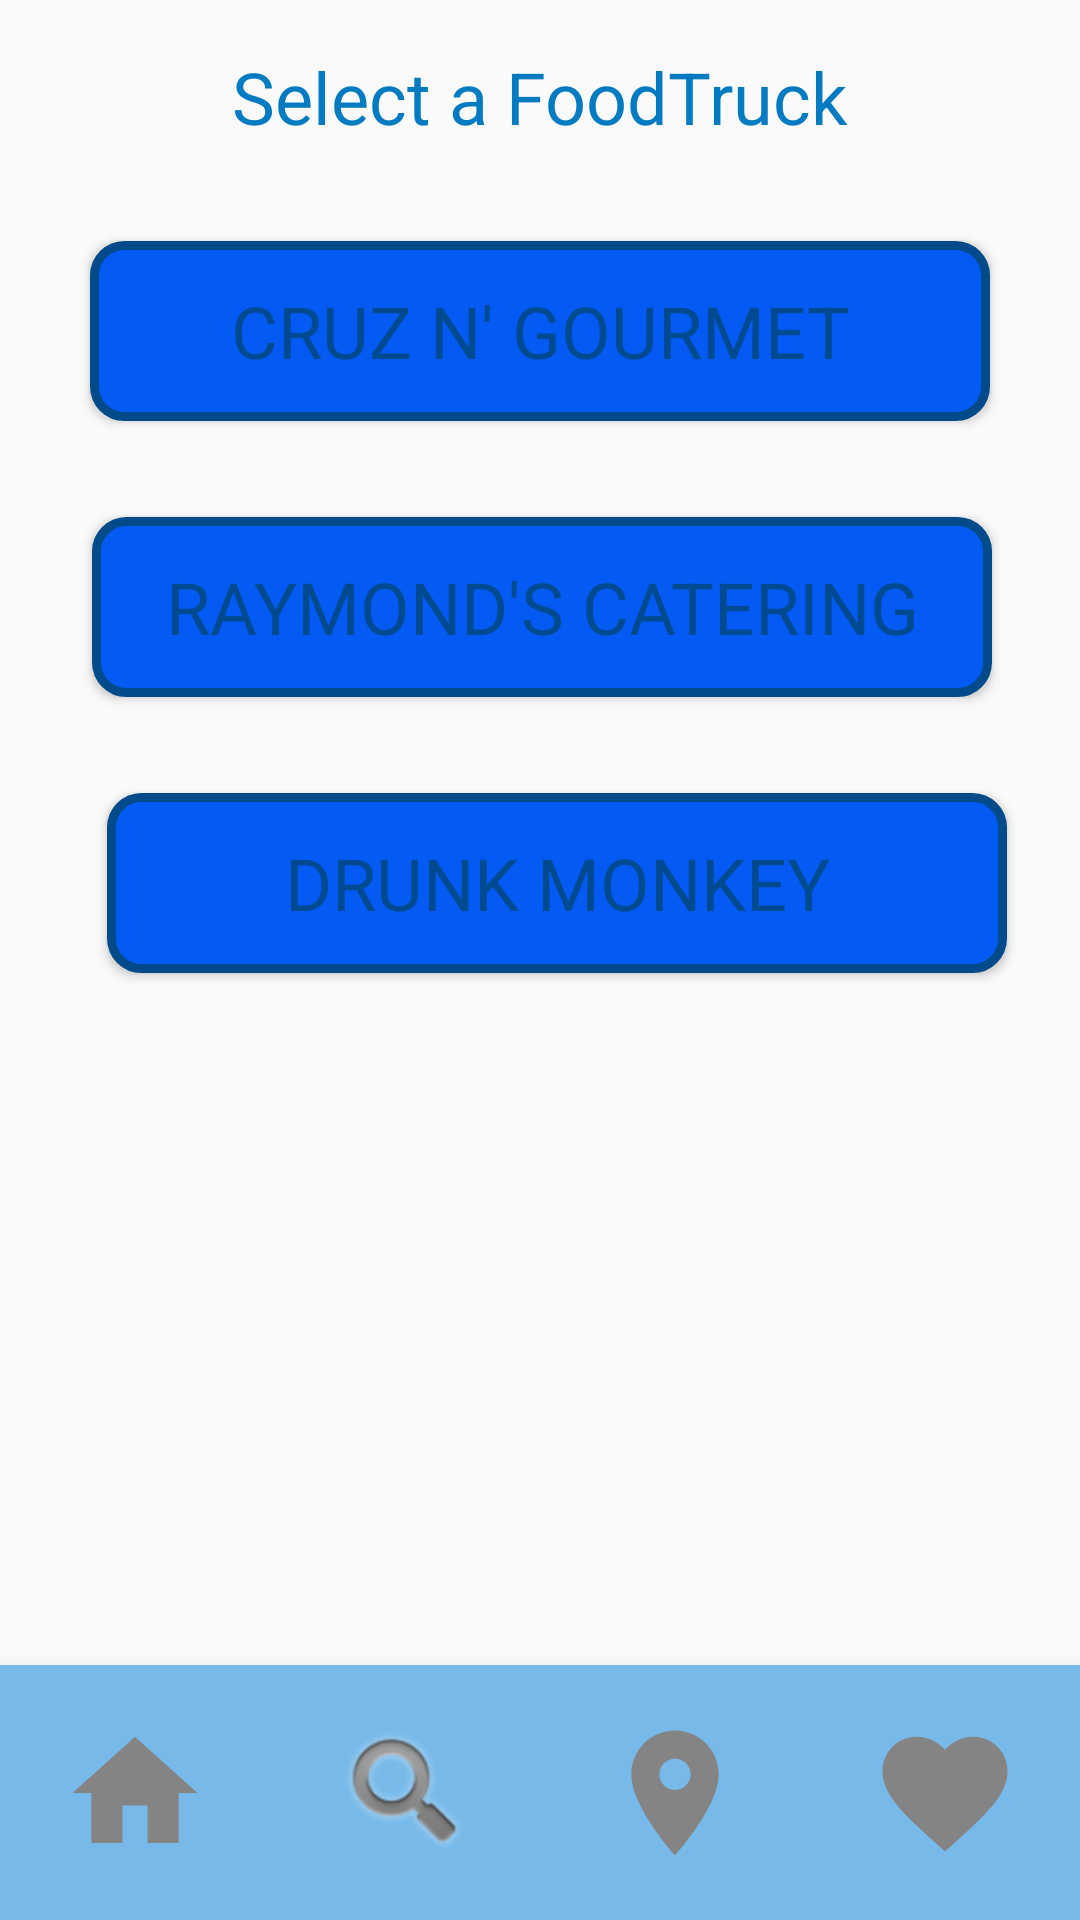

Icons on this 1080*1920 Android screen, each with its box as (x1, y1, x2, y2):
favorite: (882, 1737, 1008, 1851)
home: (73, 1737, 197, 1843)
location on: (631, 1730, 719, 1855)
search category: (352, 1739, 456, 1843)
